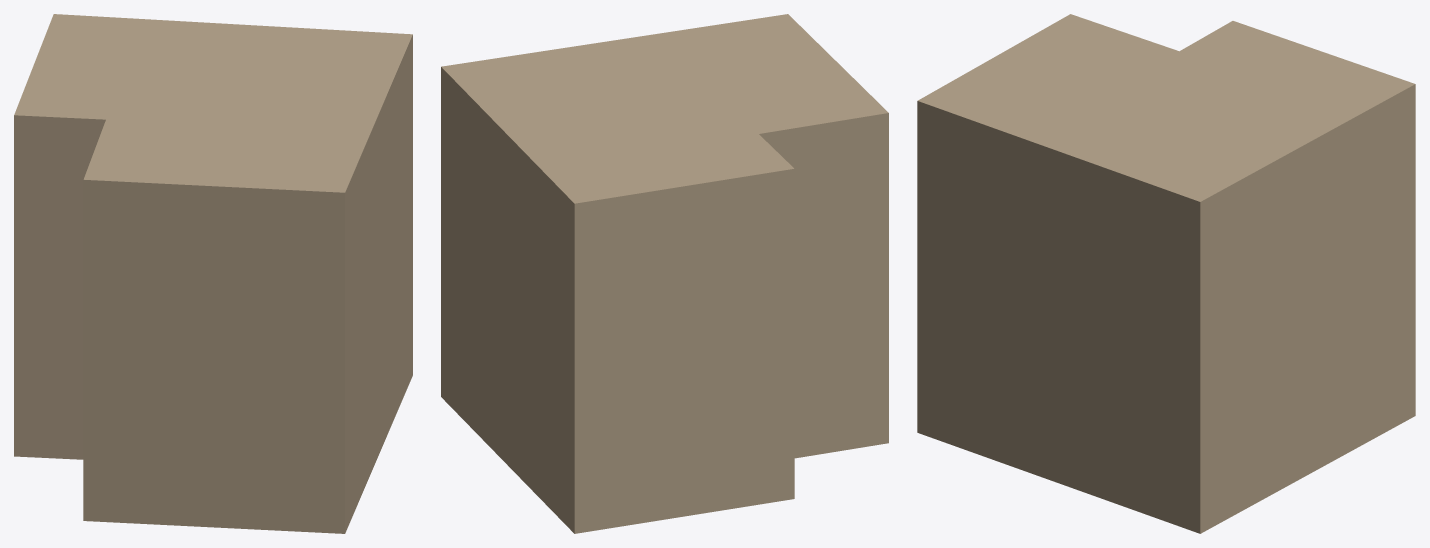
The model's file is bld_99007829.dae.
3 renders of one model, left to right at view 1: azimuth 30°, elevation 25°; view 2: azimuth 150°, elevation 25°; view 3: azimuth 270°, elevation 25°, orthographic. The views are drawn at different scales.
Parts seen in each view (by area): view 1: bld_99007829; view 2: bld_99007829; view 3: bld_99007829.
Boxes of the visible parts, bbox=[...] form: bld_99007829: bbox=[14, 14, 412, 533]; bld_99007829: bbox=[441, 14, 888, 533]; bld_99007829: bbox=[917, 14, 1415, 533].
Size of the model in its own units: 9.72 by 10.88 by 8.
